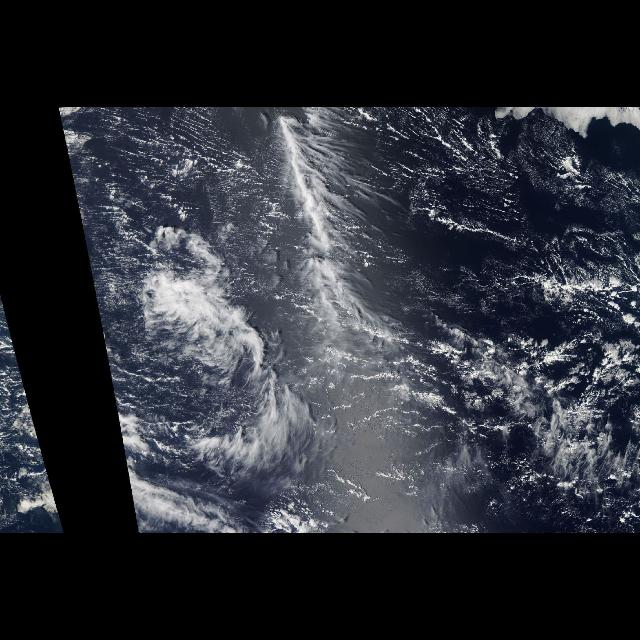Sugar: (386, 110, 640, 328), (109, 110, 244, 210)
